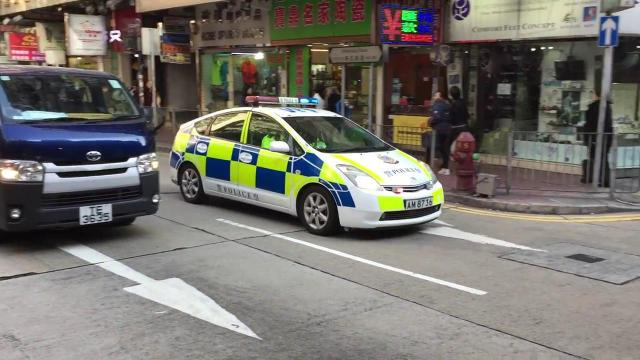police: (168, 94, 456, 237)
